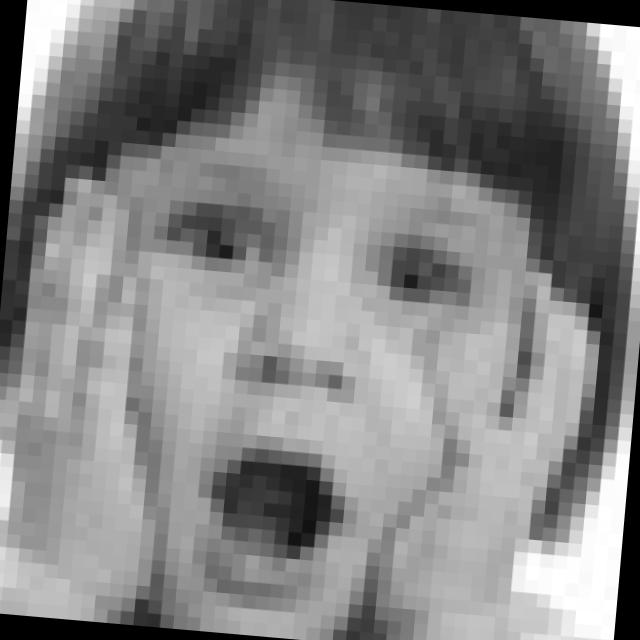surprise: (96, 149, 475, 622)
